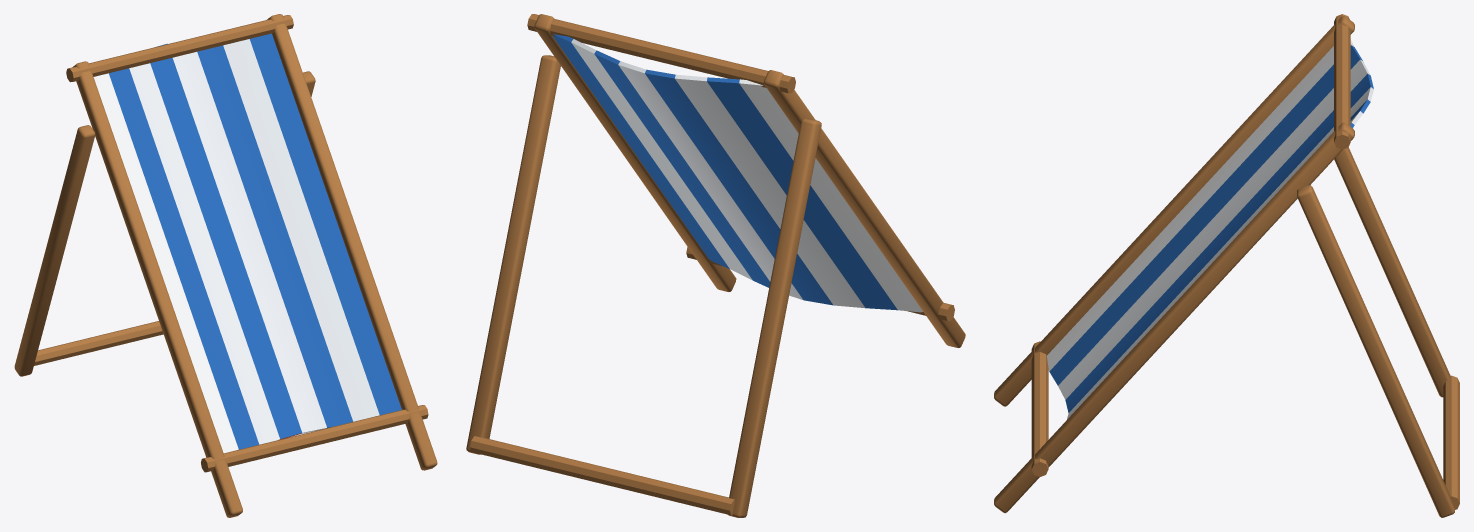
File: SunBedBlue.fbx
The picture shows the model from 3 angles, left to right: view 1: azimuth 30°, elevation 25°; view 2: azimuth 150°, elevation 25°; view 3: azimuth 270°, elevation 25°; orthographic projection. The views are drawn at different scales.
Visible parts, largest first — view 1: vaszon; view 2: vaszon; view 3: vaszon.
Boxes of the visible parts, x1,y1,x2,y2 form: vaszon: (14,14,437,517); vaszon: (466,14,965,517); vaszon: (994,14,1459,517).
Size of the model in its own units: 0.72 by 1.01 by 1.11.
Materials: 1 (1 with a texture image).
